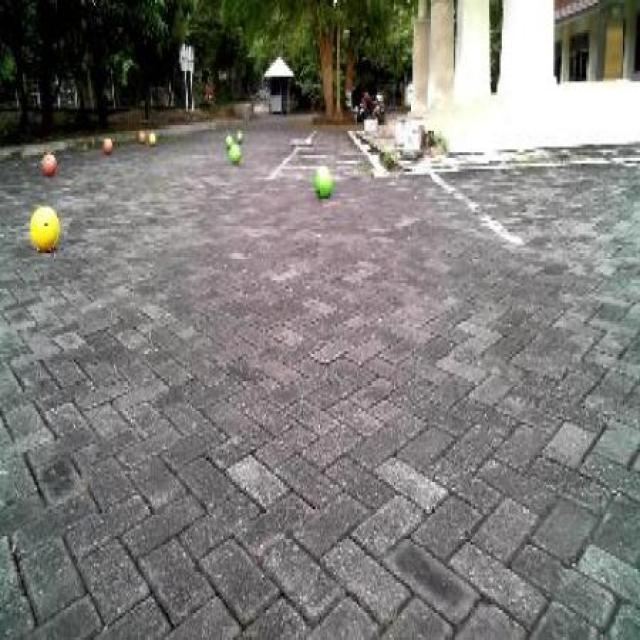buoy: (27, 198, 60, 257), (312, 156, 334, 201), (41, 147, 58, 177), (228, 137, 243, 167), (101, 133, 114, 156)
